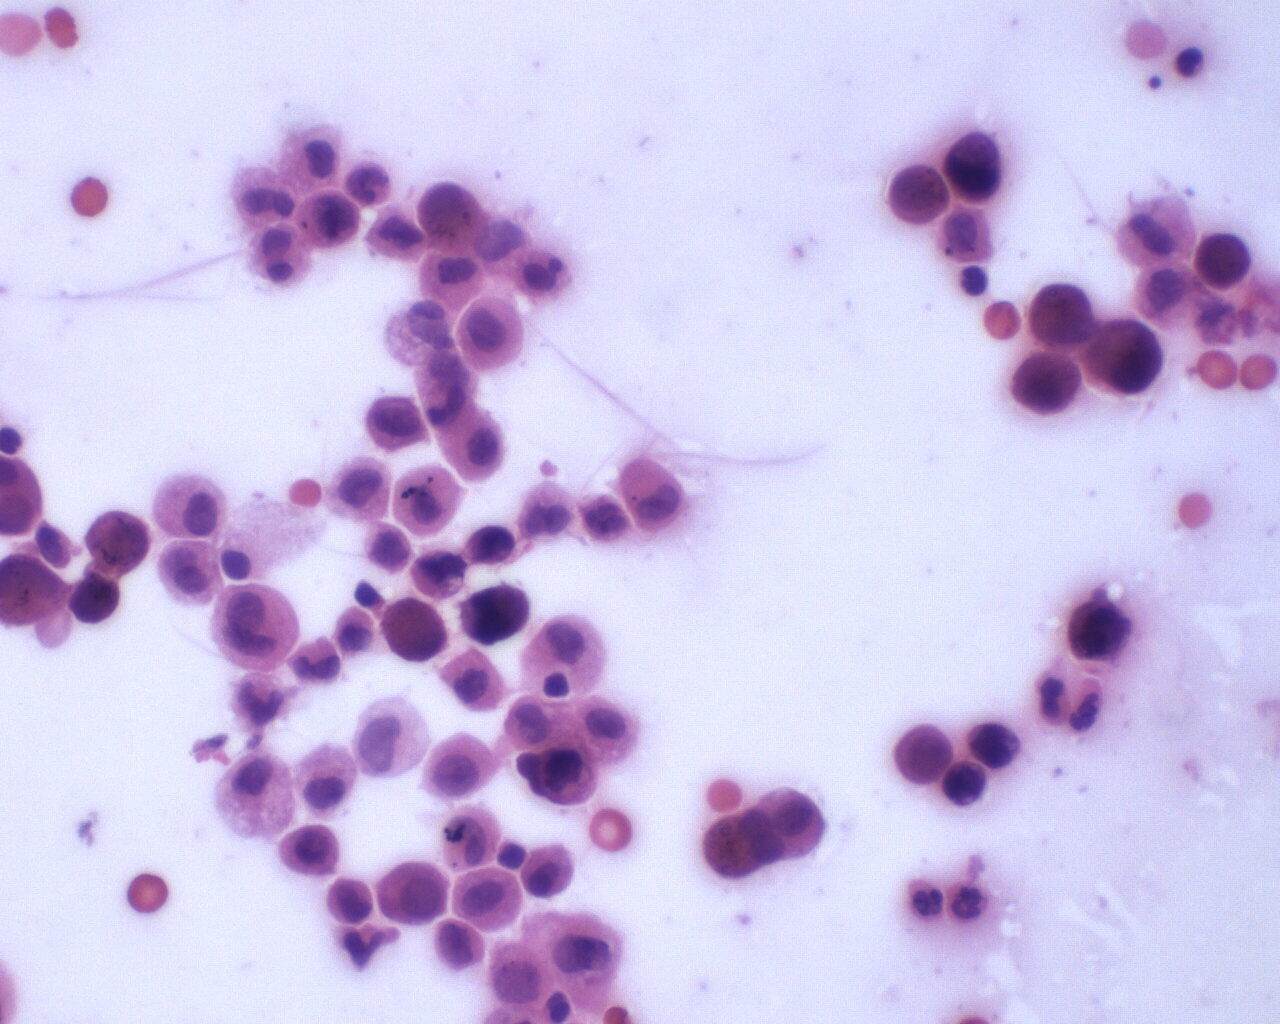ab: (1087, 315, 1165, 400), (1027, 279, 1101, 350), (941, 127, 1007, 206), (459, 581, 538, 646), (1009, 350, 1085, 418), (1065, 595, 1135, 667), (377, 859, 451, 927), (83, 509, 153, 576), (887, 163, 953, 231), (366, 393, 430, 458), (296, 189, 360, 254), (535, 741, 596, 808), (893, 724, 957, 787), (1193, 226, 1254, 290), (281, 822, 345, 883), (66, 571, 124, 628), (965, 721, 1025, 774), (327, 872, 377, 927), (941, 761, 993, 810)
histo: (210, 752, 304, 844)
lymph: (1171, 39, 1211, 82)
meso: (208, 583, 301, 674), (149, 469, 234, 542), (419, 731, 502, 800), (455, 293, 526, 372), (440, 411, 513, 487), (391, 462, 462, 537)
neutro: (945, 876, 996, 927), (907, 876, 945, 924)
